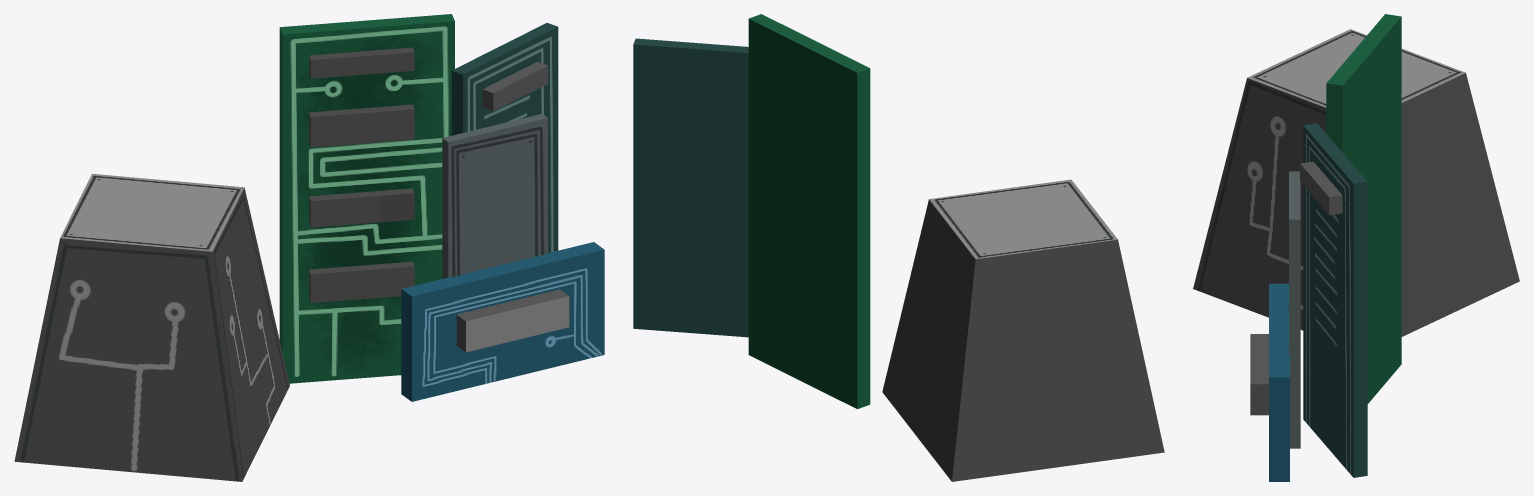
Rendered from building cluster.fbx.
3 views of the same model, side by side, from view 1: azimuth 30°, elevation 25°; view 2: azimuth 150°, elevation 25°; view 3: azimuth 270°, elevation 25° (orthographic). The views are drawn at different scales.
Parts seen in each view (by area): view 1: pCube17; view 2: pCube17; view 3: pCube17.
Boxes of the visible parts, x1,y1,x2,y2 form: pCube17: (14,14,604,481); pCube17: (633,14,1164,481); pCube17: (1193,14,1519,481).
Bounding box in the file's own units: 200 × 121 × 103.
1 material, 1 textured.
